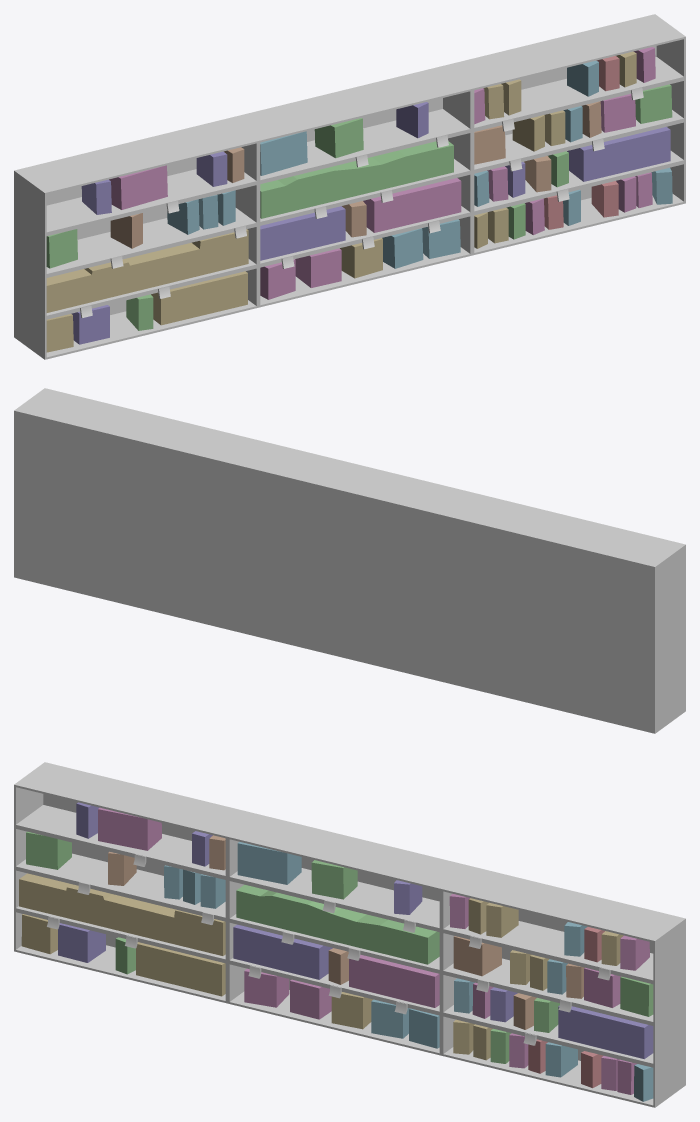
The model's file is ShelfWide.fbx.
3 renders of one model, top to bottom at view 1: azimuth 30°, elevation 25°; view 2: azimuth 150°, elevation 25°; view 3: azimuth 330°, elevation 25°, orthographic.
Parts seen in each view (by area): view 1: ProdustShelfWide, ShelfWideMesh, PriceTags; view 2: ShelfWideMesh; view 3: ProdustShelfWide, ShelfWideMesh, PriceTags.
Part boxes in pixels (x1,y1,x2,y2): ProdustShelfWide: (46, 47, 672, 352); ShelfWideMesh: (14, 14, 685, 359); PriceTags: (80, 87, 643, 318); ShelfWideMesh: (14, 388, 685, 733); ProdustShelfWide: (19, 802, 653, 1101); ShelfWideMesh: (14, 762, 685, 1107); PriceTags: (47, 854, 610, 1045).
Bounding box in the file's own units: 12 × 2.98 × 1.08.
